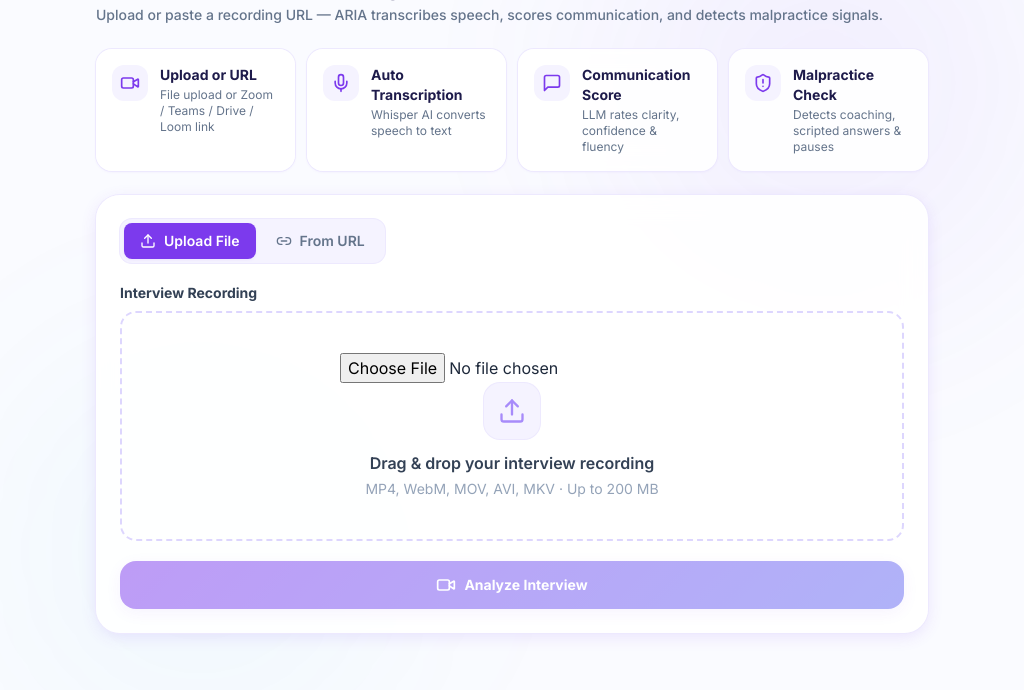
Test case: VideoPage › shows communication score after successful analysis
Click the button "From URL" at [320, 241], box [260, 223, 381, 259]
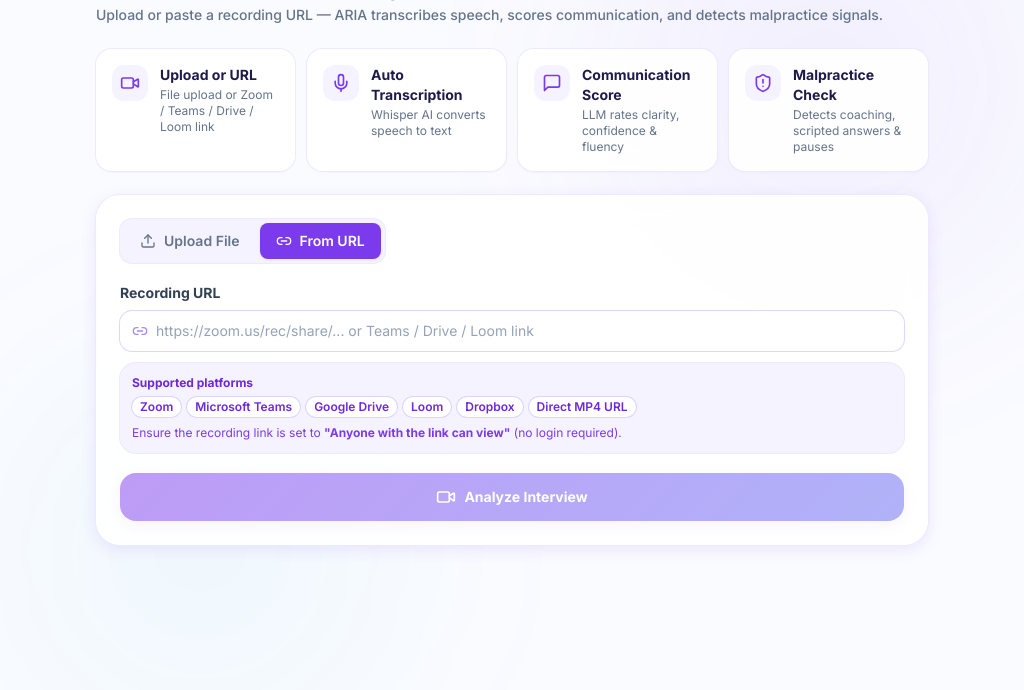
Type "https://zoom.us/rec/share/abc123" into the field with placeholder "https://zoom.us/rec/share/... or Teams / Drive / Loom link" at [512, 331], box [120, 311, 904, 351]
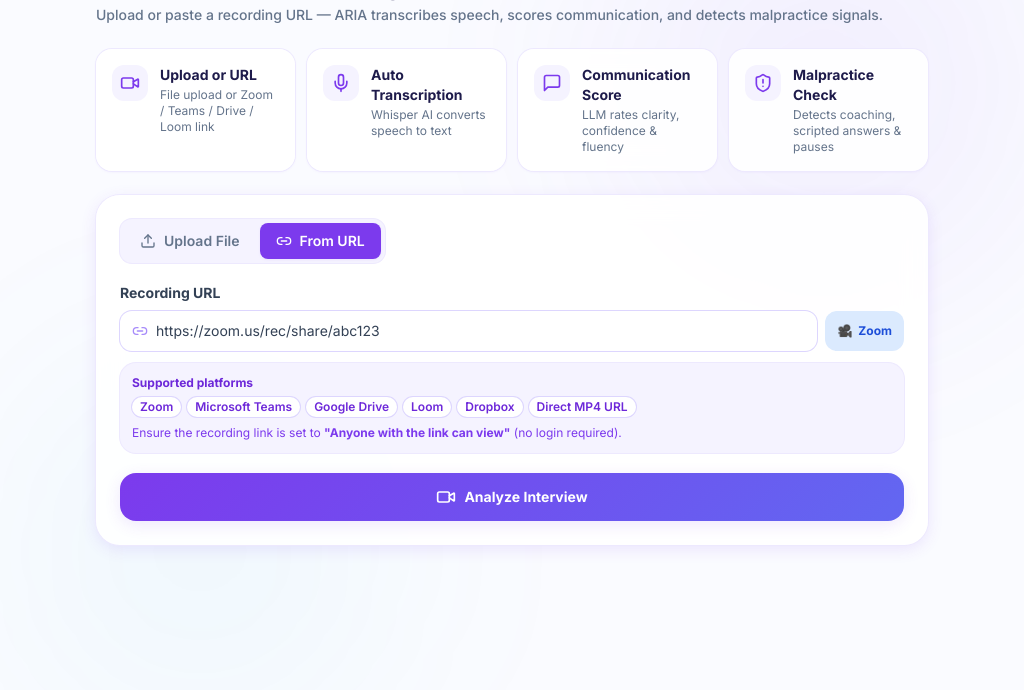
Click the button "Analyze Interview" at [512, 497], box [120, 473, 904, 521]
(page scrolled)
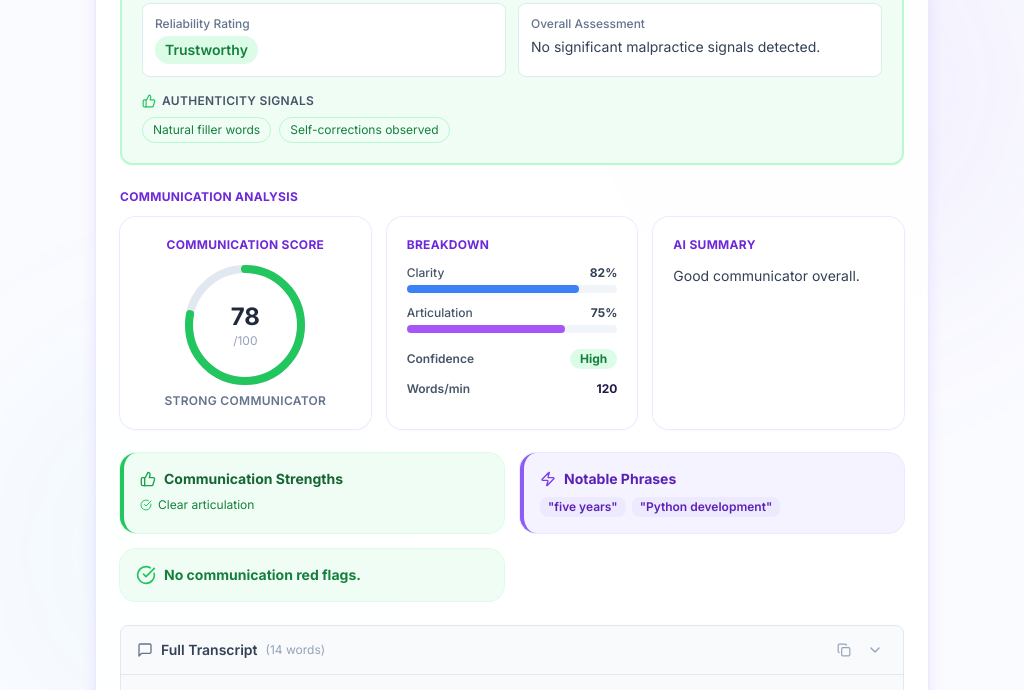
Now the text "Communication Analysis" is shown, box [120, 189, 298, 204]
Now the text "78" is shown, box [231, 301, 260, 333]
